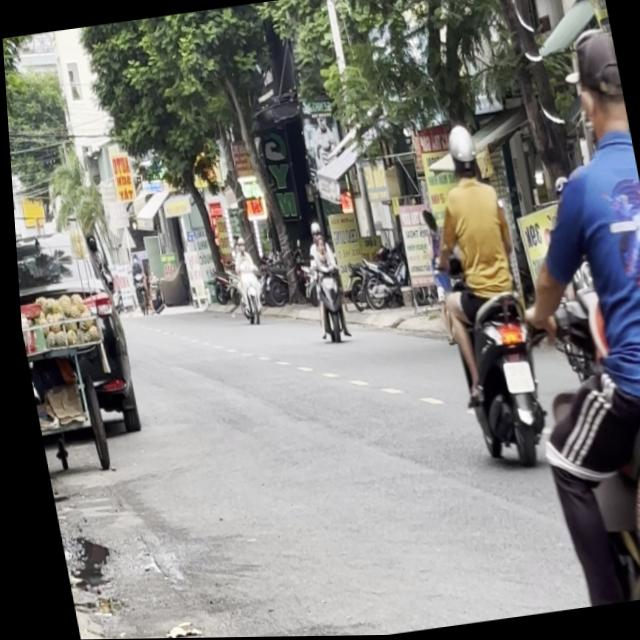helmet: (440, 121, 480, 180)
licenseplate: (455, 25, 640, 612), (405, 116, 554, 472)
motorcyclist: (563, 30, 628, 145)
nohelmet: (498, 360, 528, 393)
